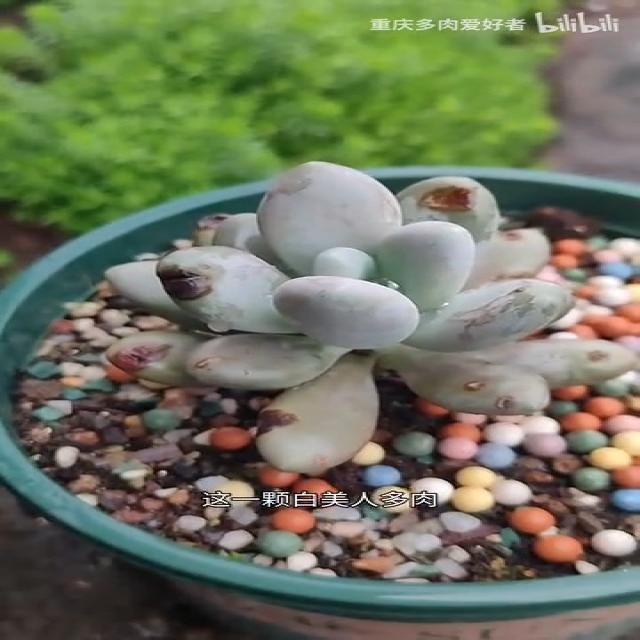-: (162, 264, 226, 306), (421, 186, 489, 218), (112, 342, 169, 376), (254, 404, 300, 434), (461, 380, 506, 396), (496, 394, 521, 412)
